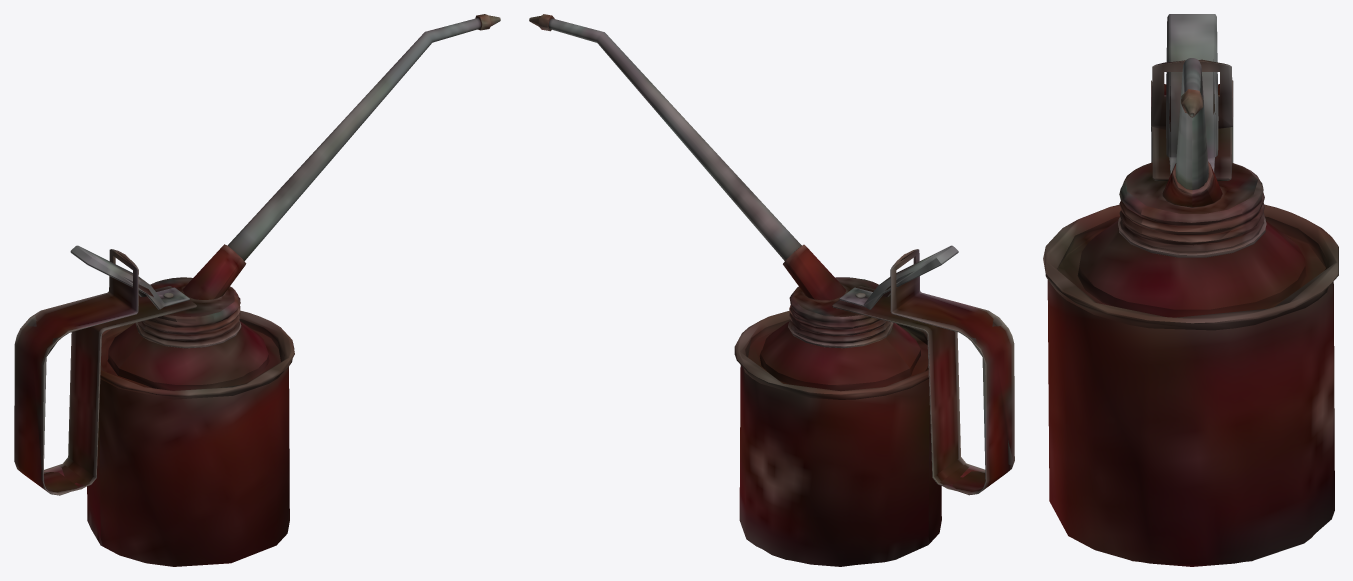
3 renders of one model, left to right at view 1: azimuth 30°, elevation 25°; view 2: azimuth 150°, elevation 25°; view 3: azimuth 270°, elevation 25°, orthographic. The views are drawn at different scales.
Parts seen in each view (by area): view 1: small_oil_can_01; view 2: small_oil_can_01; view 3: small_oil_can_01.
Boxes of the visible parts, box(x1,y1,x2,y2) form: small_oil_can_01: box(14, 14, 500, 566); small_oil_can_01: box(529, 14, 1014, 566); small_oil_can_01: box(1043, 14, 1338, 566).
Bounding box in the file's own units: 0.2656 × 0.2365 × 0.1024.
Materials: 1 (1 with a texture image).
